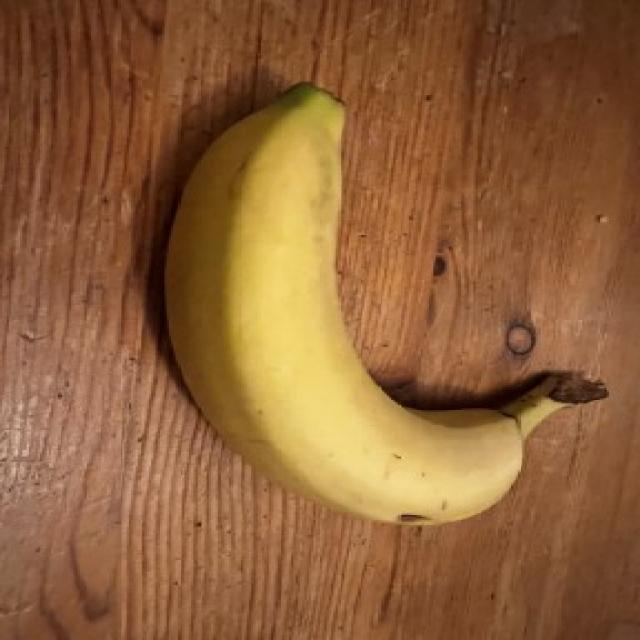Ripe: (136, 53, 616, 554)
